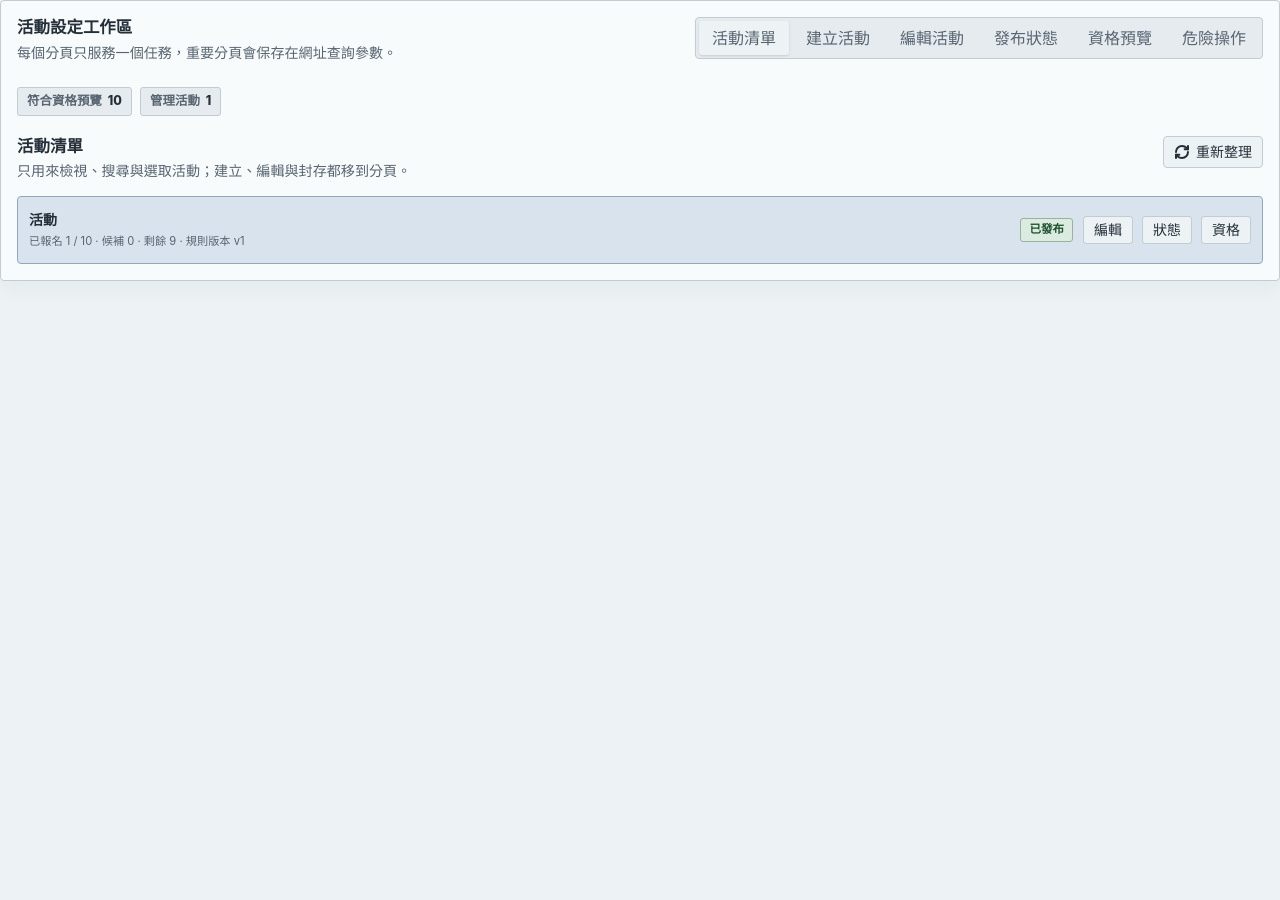
Test: AdminEventsPage CRUD tabs › keeps the create form and result panel in one explicit workspace
What coordinates should you click on to do the following:
click the tab "建立活動"
I would click on:
 (838, 38)
Its box is [793,21,883,55].
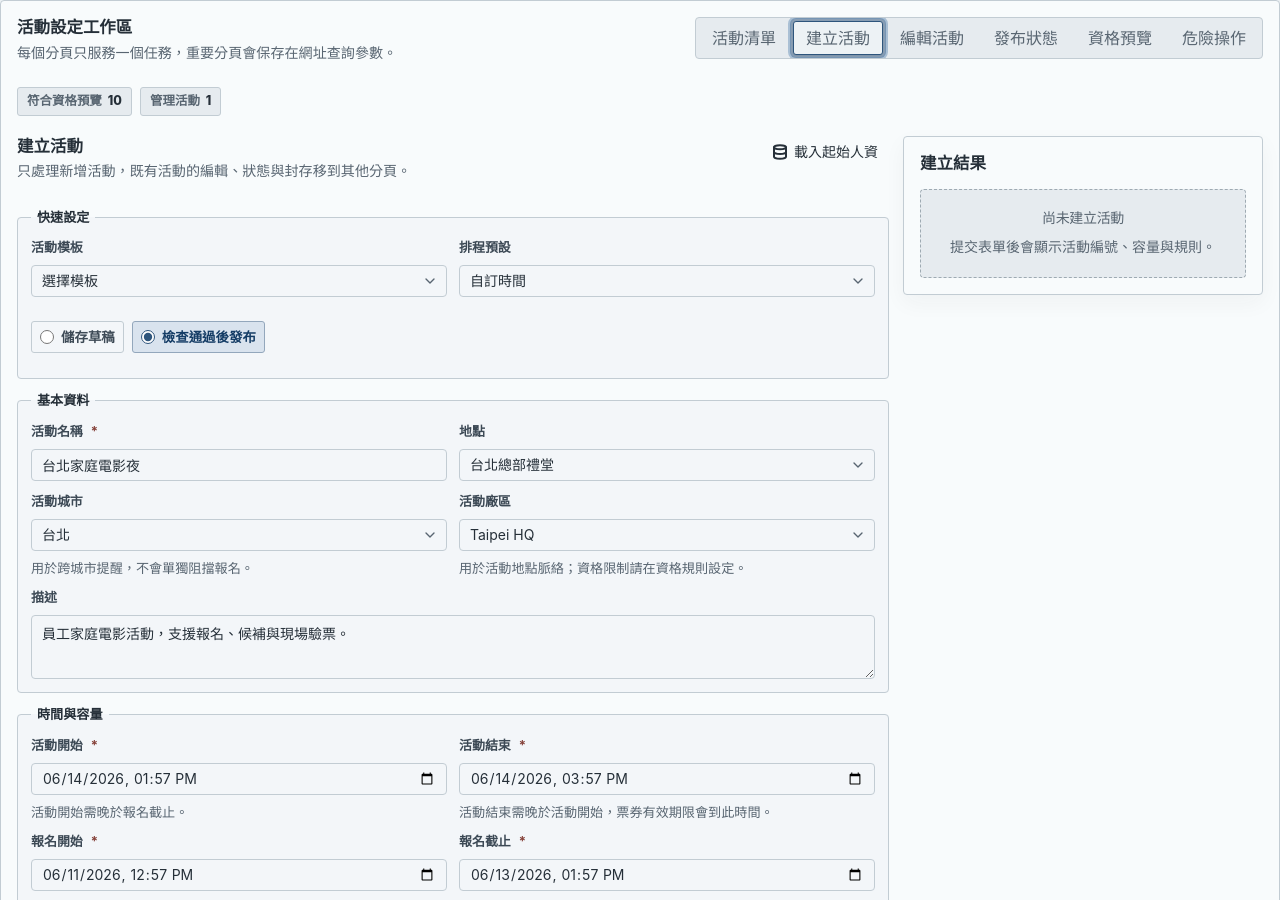
Expected: the element showing "建立結果 尚未建立活動 提交表單後會顯示活動編號、容量與規則。" is shown, [903,136,1263,295]
